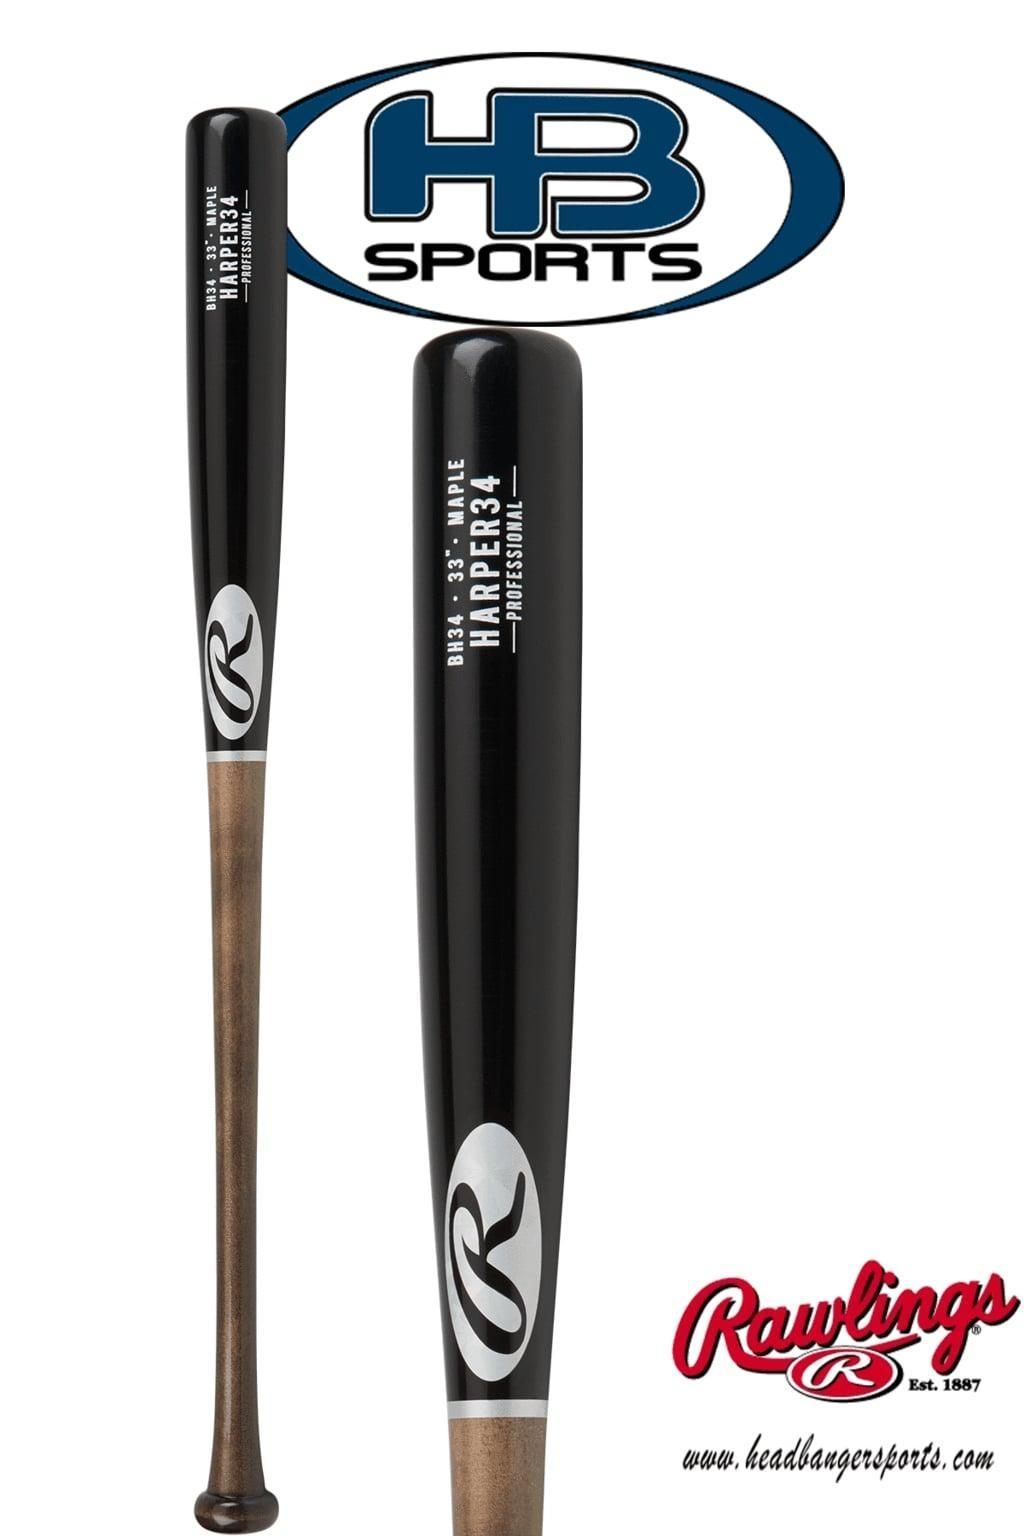Baseball-Bat: (167, 110, 317, 1520)
